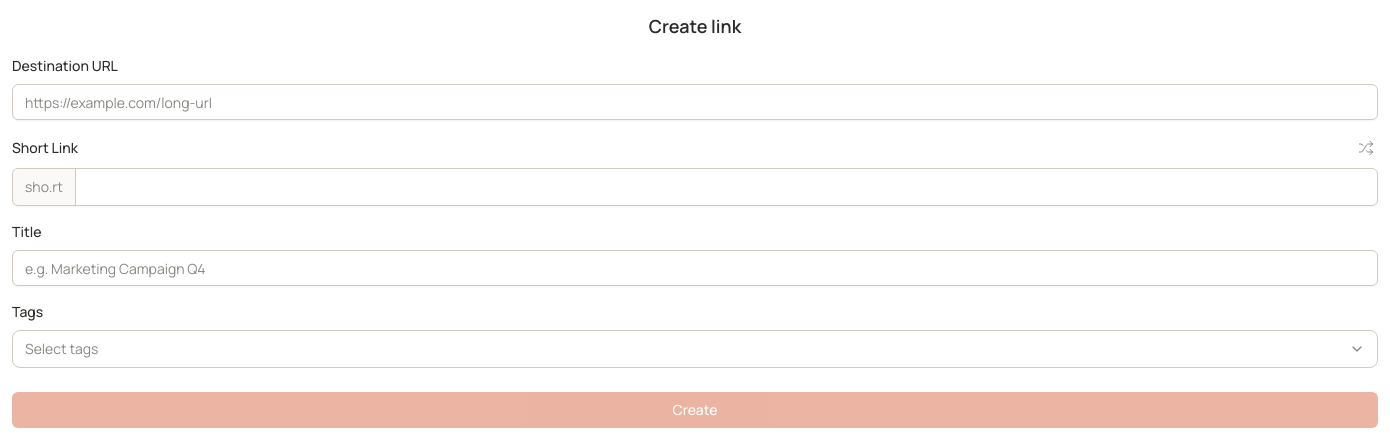
Test: LinkFormFields › tag selection › reports a failed tag creation on mobile
Click the button "Select tags": point(62, 348) [12,330,1378,368]
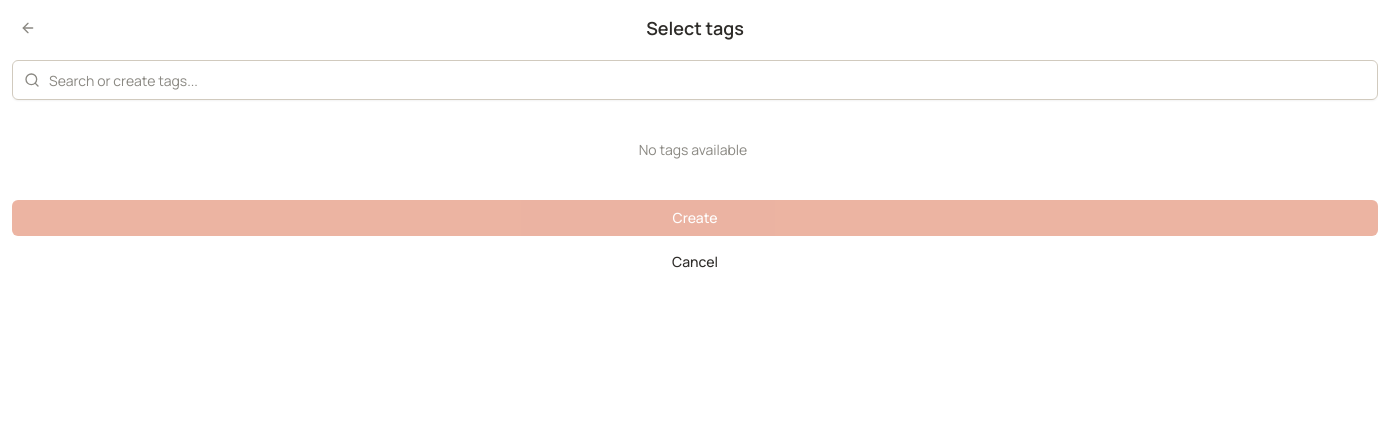
In the field with placeholder "Search or create tags...": point(695, 80) [12,60,1378,100], type "Dup"
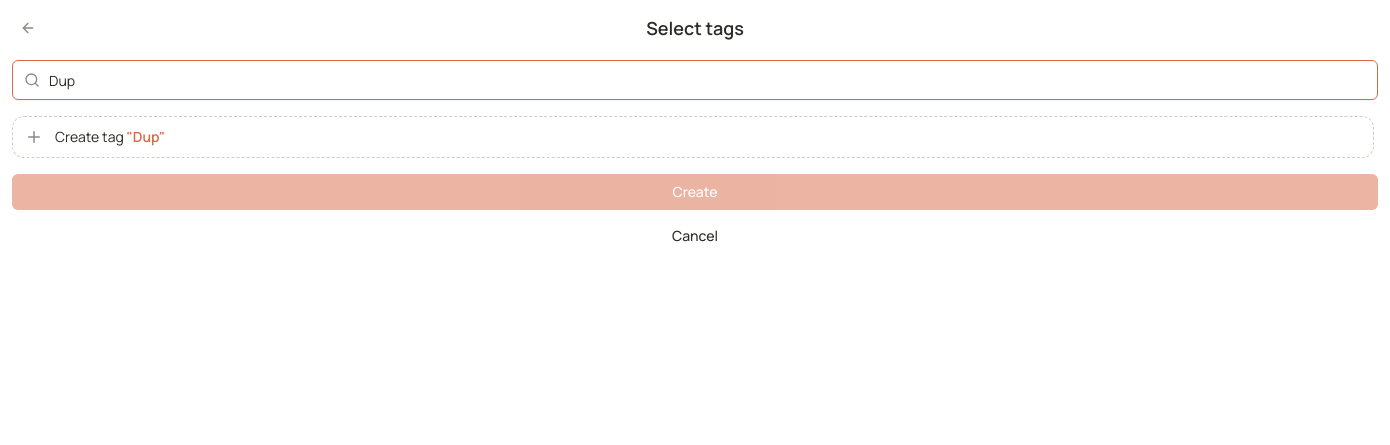
Click the button "Create tag \"Dup\"": point(91, 136) [12,116,1374,158]
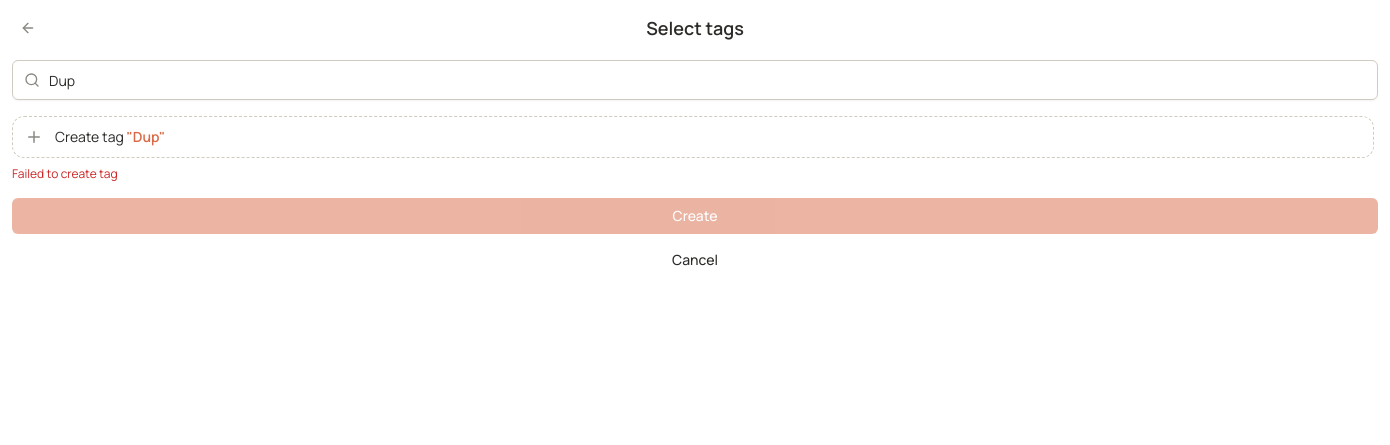
Expected: the text "Failed to create tag" is shown, [12,165,118,182]
